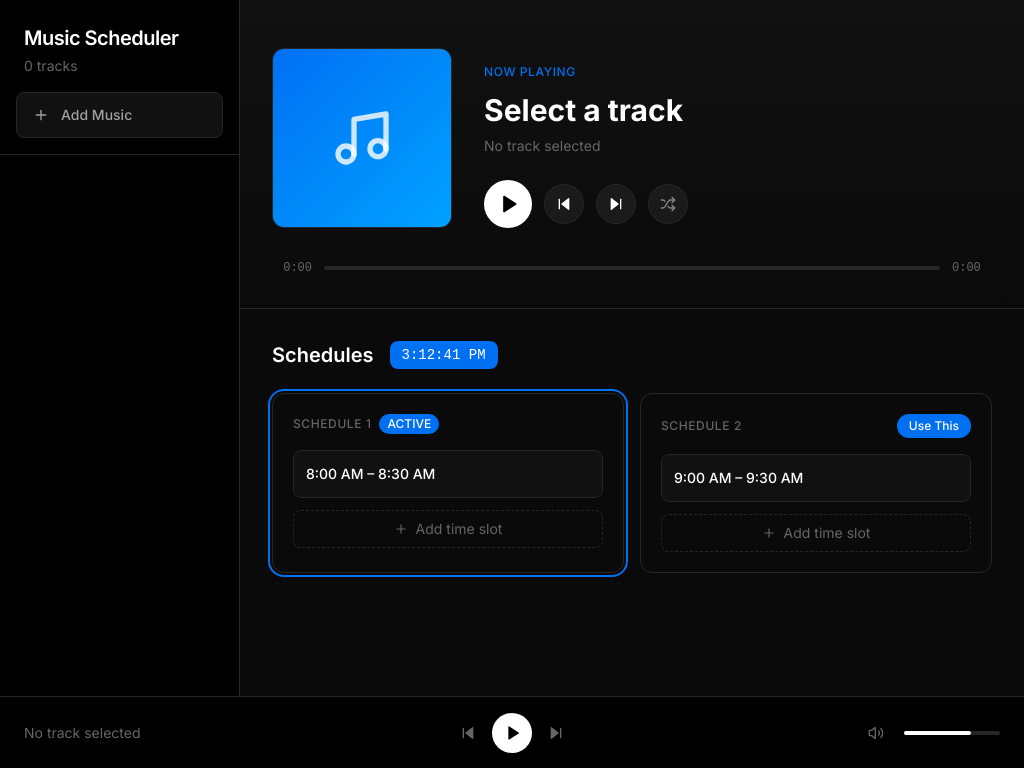
Scenario: MusicScheduler Component › Initial Render › shows the hidden file input for audio uploads
// File input lives inside the Add Music panel — open it first
Click the button "Add Music". click: (120, 115)
box: [16,92,223,138]
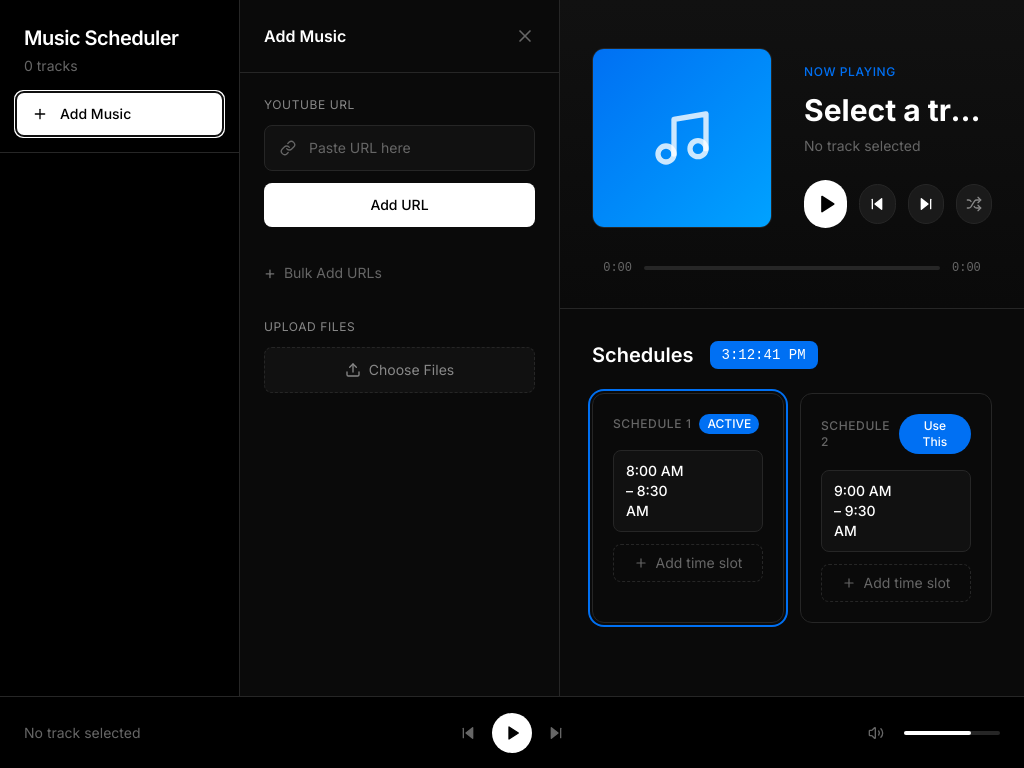
Expected: the element showing "Upload Files Choose Files" is shown, [264,319,535,393]
